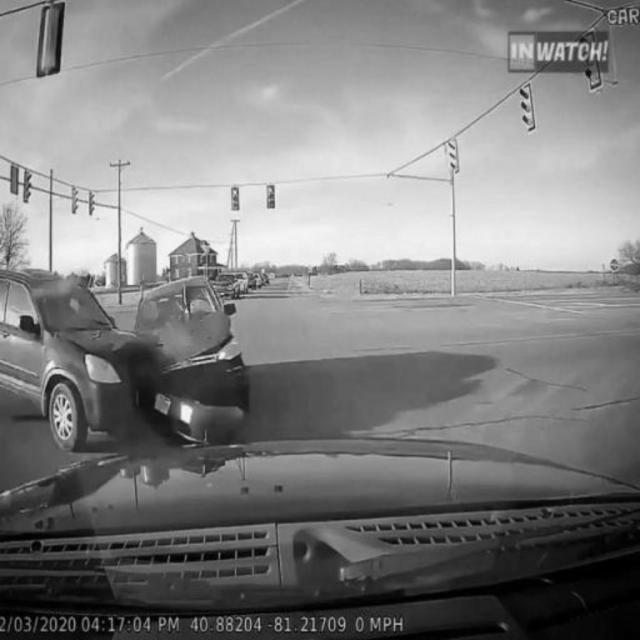accident: (3, 256, 254, 450)
